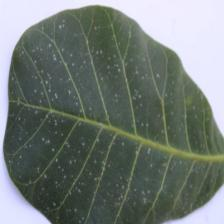red rust: (2, 4, 224, 223)
